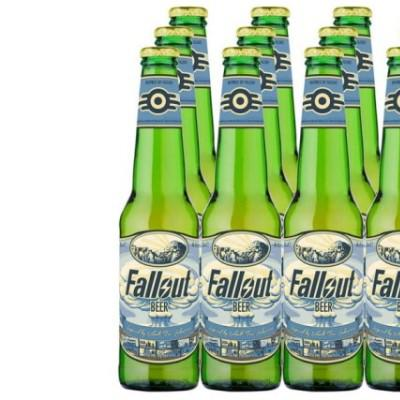beer: (118, 9, 400, 393)
